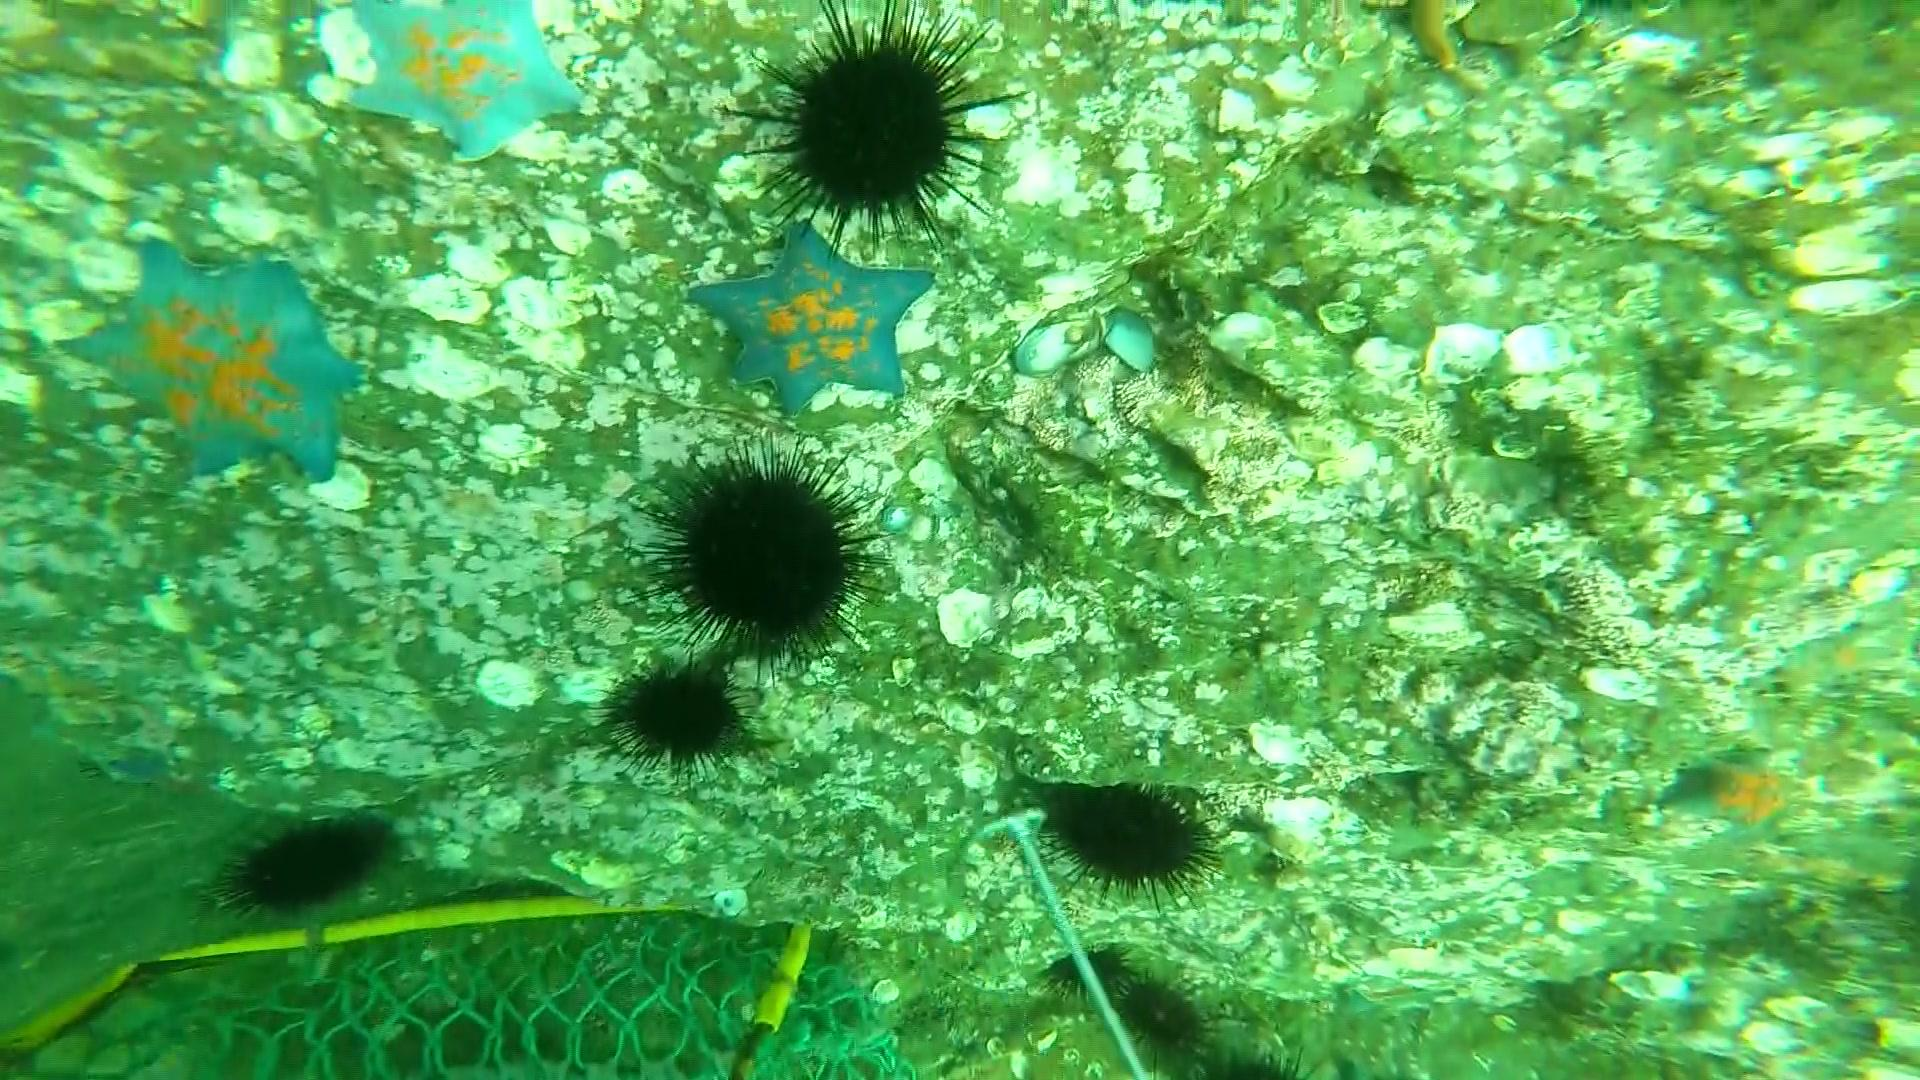echinus: (716, 1, 1031, 270), (622, 433, 905, 696), (1035, 781, 1232, 916), (591, 655, 767, 785), (203, 810, 398, 924), (1104, 971, 1207, 1058), (1043, 940, 1139, 1005), (1171, 1044, 1320, 1080)
starfish: (63, 237, 369, 487), (684, 214, 939, 422), (343, 1, 591, 166)
